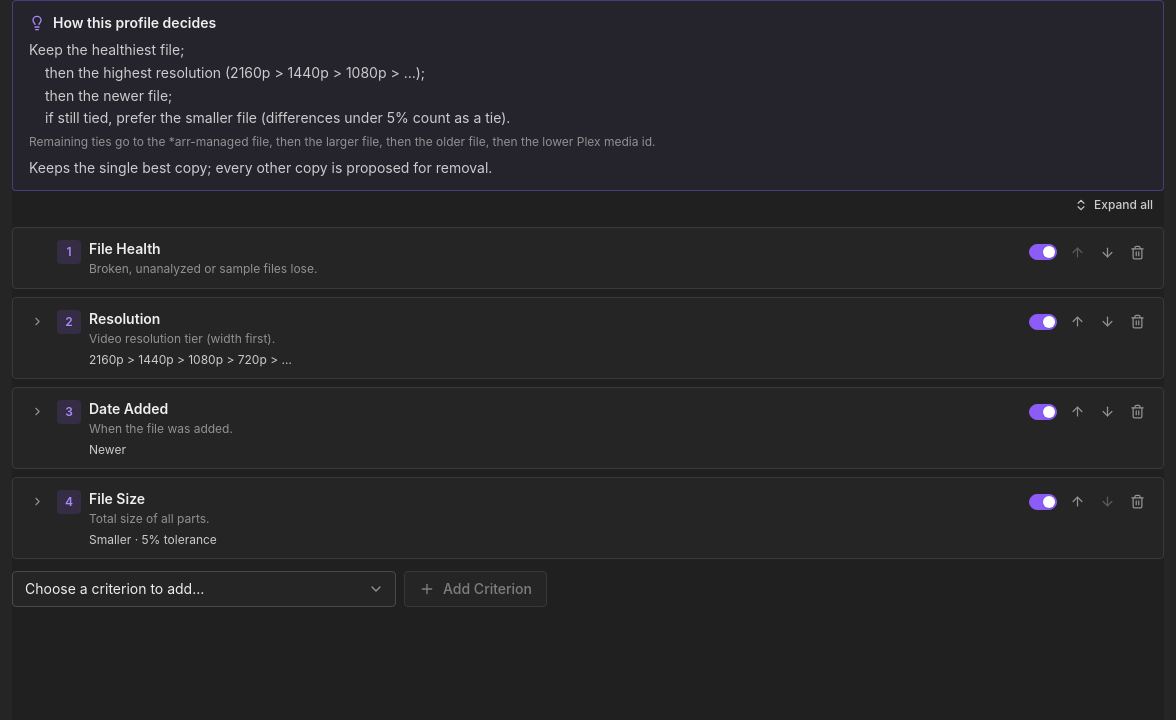
Test: <CriteriaBuilder> › collapses rows to a one-line summary and expands them on demand
The width and height of the screenshot is (1176, 720).
expect the button "2160p > 1440p > 1080p > 720p > …" is shown: met, box [89, 352, 292, 368]
expect the button "Smaller · 5% tolerance" is shown: met, box [89, 532, 217, 548]
Click the button named "Show Resolution options" at (37, 322), box [25, 310, 49, 334]
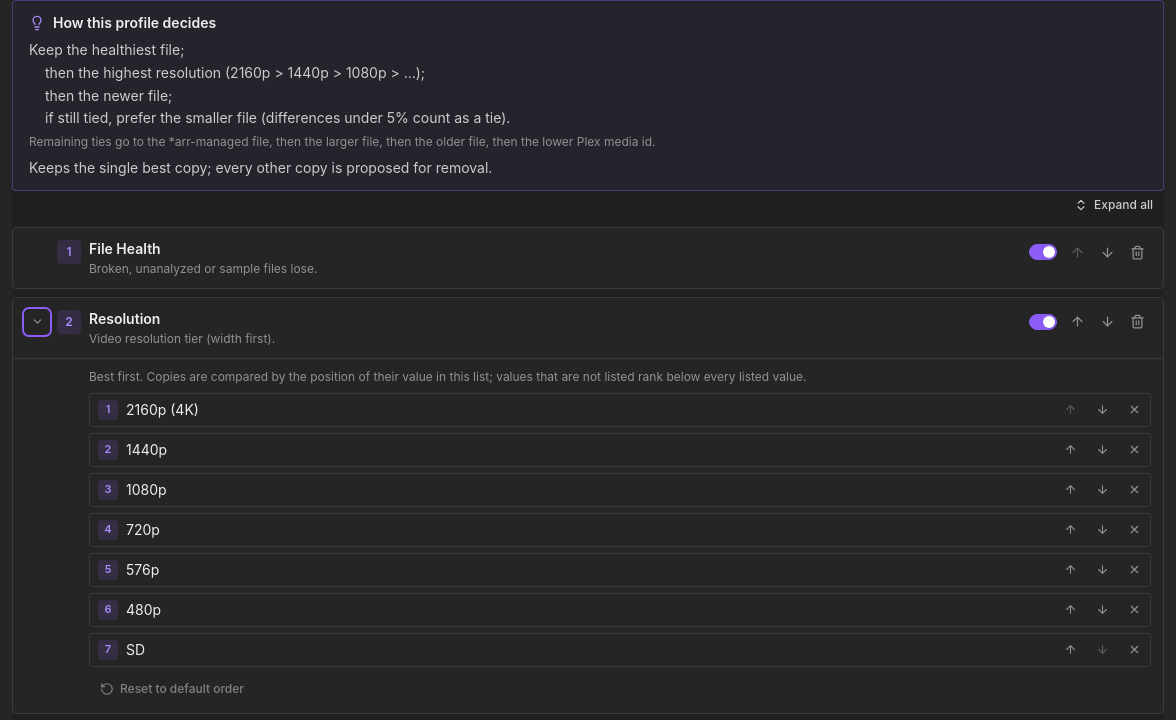
expect the list named "Resolution order" is shown: met, box [89, 393, 1151, 667]
expect the button named "Hide Resolution options" is expanded: met, box [25, 310, 49, 334]
Click the button "Expand all" at (1114, 205), box [1063, 191, 1164, 219]
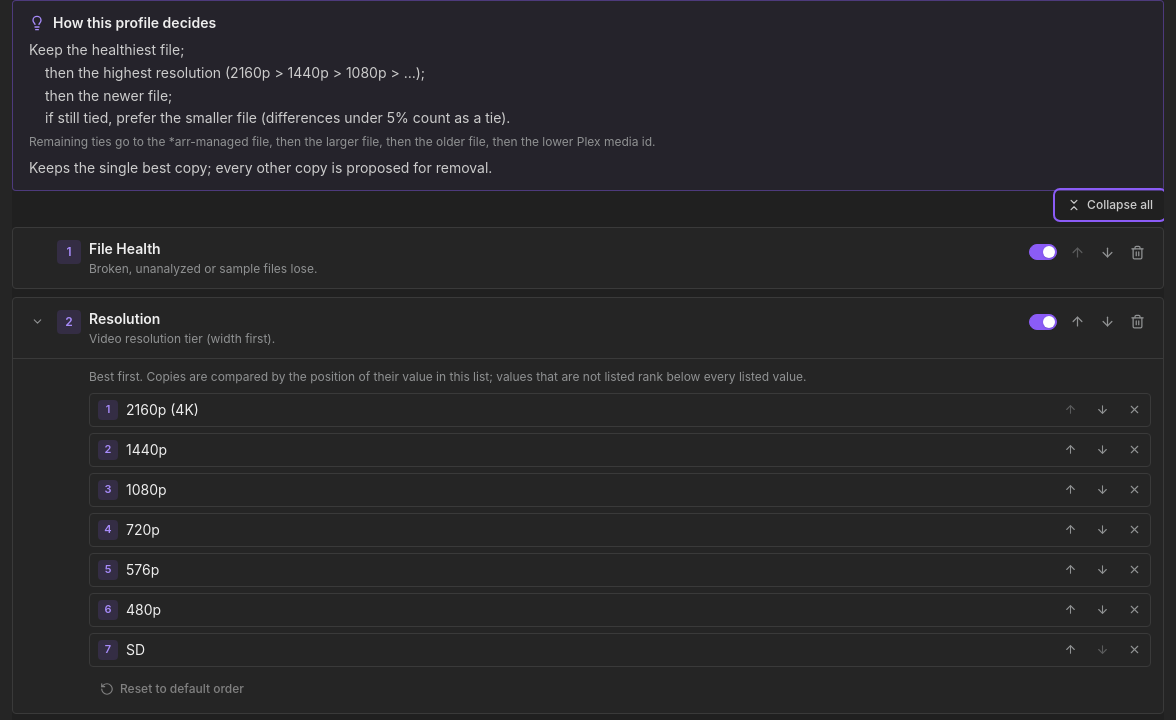
Click the button "Collapse all" at (1110, 205), box [1056, 191, 1164, 219]
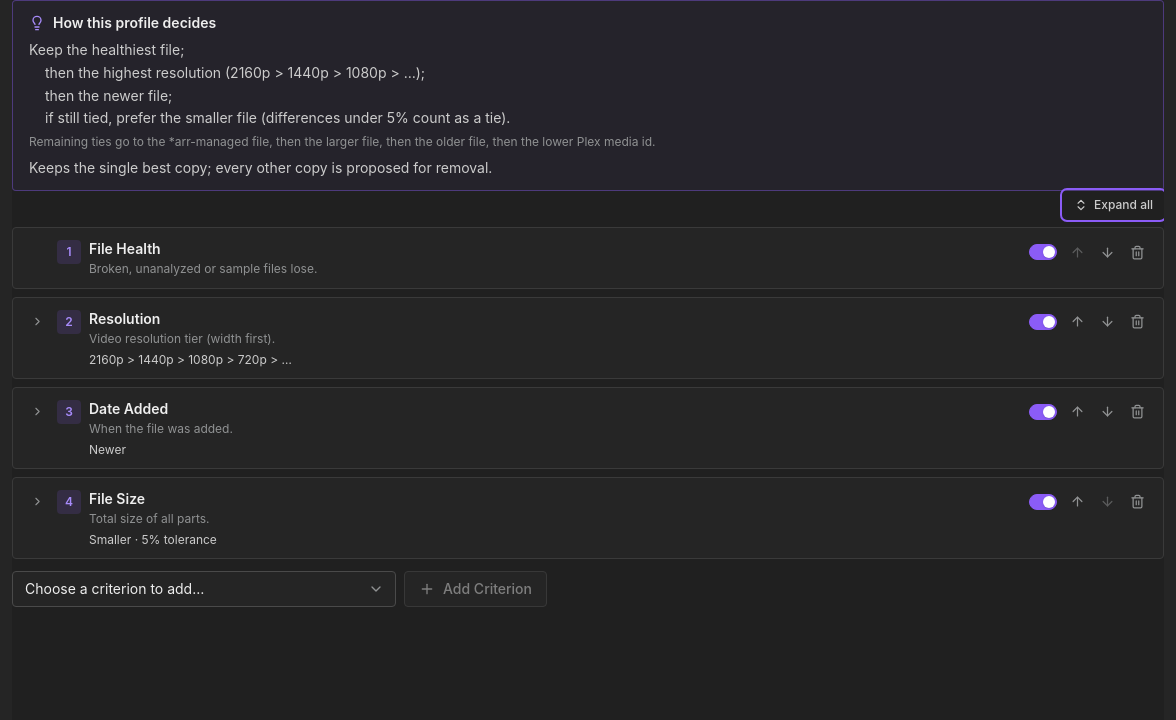
// Newly added criteria open expanded.
Select "Managed by *arr (requires *arr)" in the dropdown named "Add criterion" at (204, 589), box [12, 571, 396, 607]
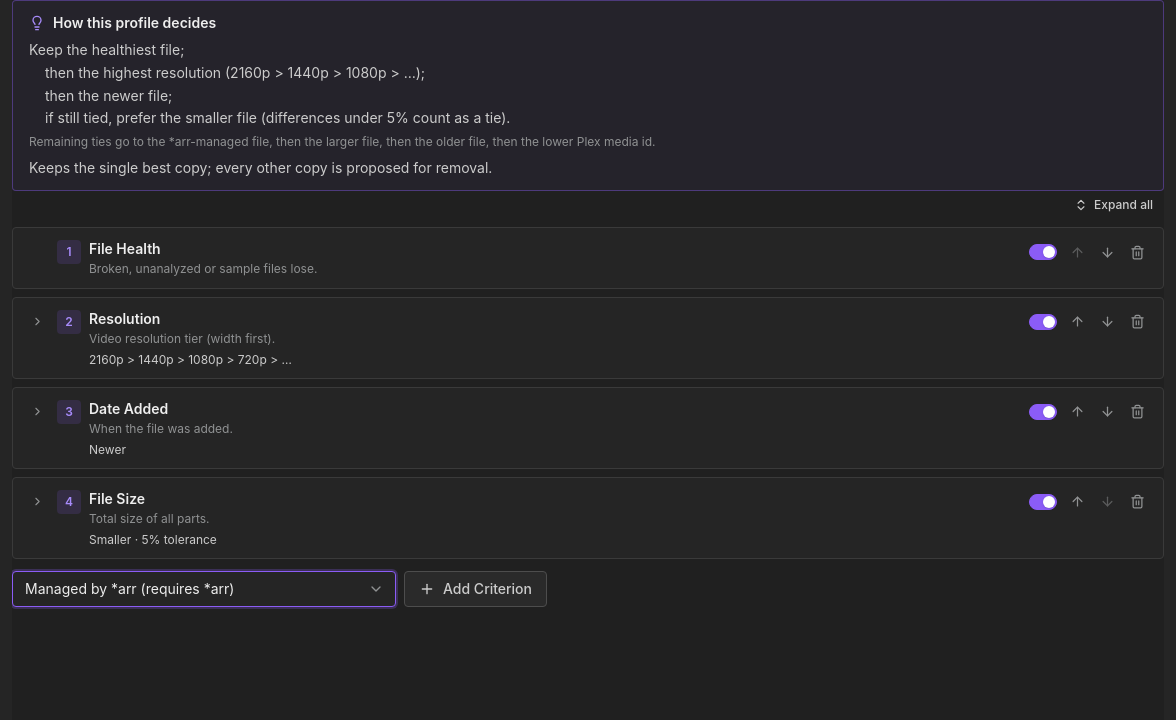
Click the button "Add Criterion" at (476, 589), box [404, 571, 547, 607]
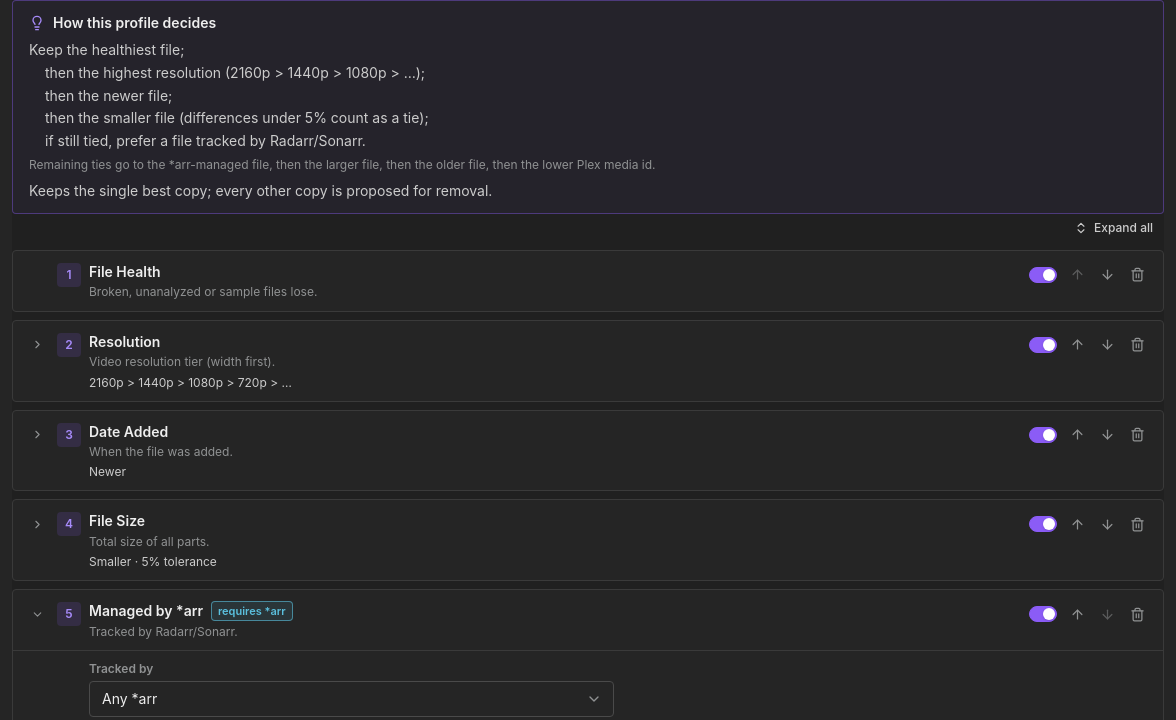
expect the dropdown labelled "Tracked by" is shown: met, box [89, 681, 614, 717]
